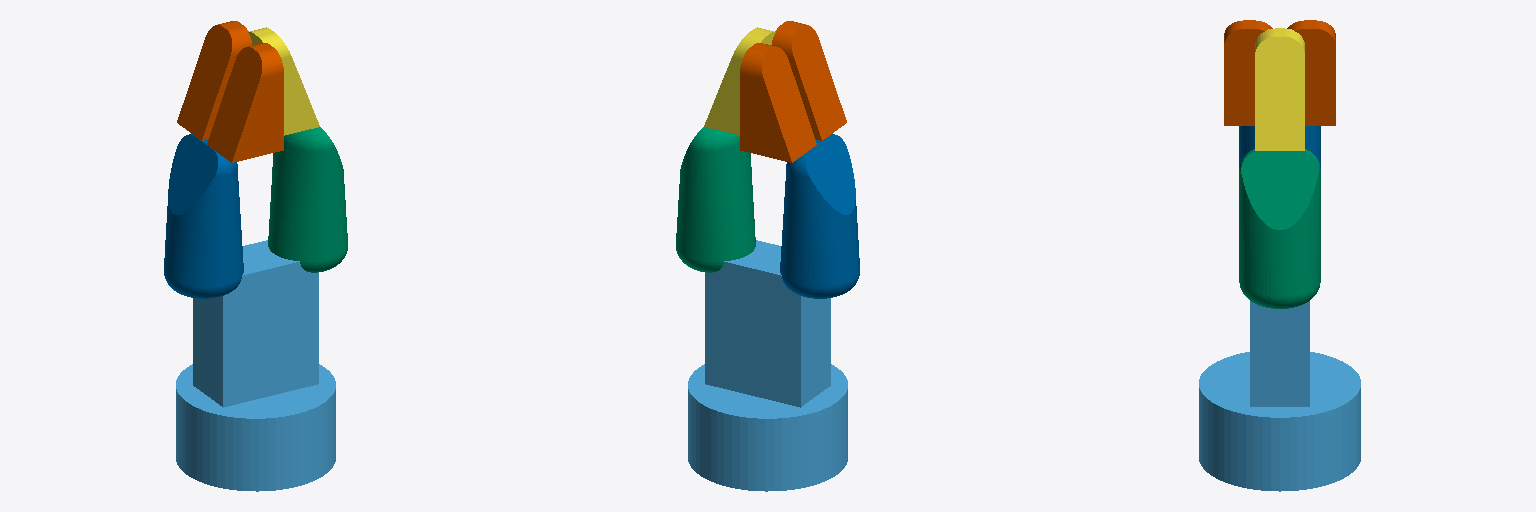
URDF robot description (sr_gripper_custom):
<?xml version="1.0"?>
<robot name="sr_gripper_custom">
  <link name="world"/>

  <joint name="base_joint" type="floating">
    <parent link="world"/>
    <child link="base_link"/>
    <origin xyz="0 0 0" rpy="0 0 0"/>
  </joint>

  <link name="base_link">
    <visual>
      <geometry>
        <mesh filename="meshes/visual/link0.obj"/>
      </geometry>
    </visual>
    <collision name="base_mount">
      <geometry>
        <dsf_vert filename="assets/sr_gripper/meshes/collision/link0_dsf1.obj"
                  contact="false"/>
      </geometry>
    </collision>
    <collision name="base_body">
      <geometry>
        <dsf_vert filename="assets/sr_gripper/meshes/collision/link0_dsf2.obj"
                  contact="false"/>
      </geometry>
    </collision>
  </link>

  <link name="left_finger_link_1">
    <visual>
      <geometry>
        <mesh filename="meshes/visual/link1.obj"/>
      </geometry>
    </visual>
    <collision>
      <geometry>
        <dsf_vert filename="assets/sr_gripper/meshes/collision/link1_dsf1.obj"
                  contact="false"/>
      </geometry>
    </collision>
  </link>

  <link name="left_finger_link_2">
    <visual>
      <geometry>
        <mesh filename="meshes/visual/link2.obj"/>
      </geometry>
    </visual>
    <collision>
      <geometry>
        <dsf_vert filename="assets/sr_gripper/meshes/collision/link2_dsf1.obj"
                  contact="true"/>
      </geometry>
    </collision>
  </link>

  <link name="right_finger_link_1">
    <visual>
      <geometry>
        <mesh filename="meshes/visual/link1.obj"/>
      </geometry>
    </visual>
    <collision>
      <geometry>
        <dsf_vert filename="assets/sr_gripper/meshes/collision/link1_dsf1.obj"
                  contact="false"/>
      </geometry>
    </collision>
  </link>

  <link name="right_finger_link_2">
    <visual>
      <origin xyz="0 0.015 0" rpy="0 0 0"/>
      <geometry>
        <mesh filename="meshes/visual/link2.obj"/>
      </geometry>
    </visual>
    <visual>
      <origin xyz="0 -0.015 0" rpy="0 0 0"/>
      <geometry>
        <mesh filename="meshes/visual/link2.obj"/>
      </geometry>
    </visual>
    <collision>
      <origin xyz="0 0.015 0" rpy="0 0 0"/>
      <geometry>
        <dsf_vert filename="assets/sr_gripper/meshes/collision/link2_dsf1.obj"
                  contact="true"/>
      </geometry>
    </collision>
    <collision>
      <origin xyz="0 -0.015 0" rpy="0 0 0"/>
      <geometry>
        <dsf_vert filename="assets/sr_gripper/meshes/collision/link2_dsf1.obj"
                  contact="true"/>
      </geometry>
    </collision>
  </link>

  <joint name="left_finger_joint_1" type="revolute">
    <parent link="base_link"/>
    <child link="left_finger_link_1"/>
    <origin xyz="0.03 0 0.11" rpy="0 0 3.141592653589793"/>
    <axis xyz="0 -1 0"/>
    <limit lower="0.0" upper="0.9"/>
  </joint>

  <joint name="left_finger_joint_2" type="revolute">
    <parent link="left_finger_link_1"/>
    <child link="left_finger_link_2"/>
    <origin xyz="0 0 0.07" rpy="0 0 0"/>
    <axis xyz="0 -1 0"/>
    <limit lower="-0.9" upper="0.0"/>
    <mimic joint="left_finger_joint_1" multiplier="-1" offset="0"/>
  </joint>

  <joint name="right_finger_joint_1" type="revolute">
    <parent link="base_link"/>
    <child link="right_finger_link_1"/>
    <origin xyz="-0.03 0 0.11" rpy="0 0 0"/>
    <axis xyz="0 -1 0"/>
    <limit lower="0.0" upper="0.9"/>
    <mimic joint="left_finger_joint_1" multiplier="1" offset="0"/>
  </joint>

  <joint name="right_finger_joint_2" type="revolute">
    <parent link="right_finger_link_1"/>
    <child link="right_finger_link_2"/>
    <origin xyz="0 0 0.07" rpy="0 0 0"/>
    <axis xyz="0 -1 0"/>
    <limit lower="-0.9" upper="0.0"/>
    <mimic joint="left_finger_joint_1" multiplier="-1" offset="0"/>
  </joint>
</robot>

--- Render facts (derived) ---
The picture shows the robot from 3 angles, left to right: view 1: azimuth 30°, elevation 25°; view 2: azimuth 150°, elevation 25°; view 3: azimuth 270°, elevation 25°; orthographic projection.
Robot: sr_gripper_custom — 6 links, 5 joints (4 revolute, 1 floating); root link world; default pose: all joints at 0.
Visible links, largest first — view 1: base_link, right_finger_link_2, right_finger_link_1, left_finger_link_1, left_finger_link_2; view 2: base_link, right_finger_link_2, right_finger_link_1, left_finger_link_1, left_finger_link_2; view 3: base_link, left_finger_link_1, right_finger_link_2, left_finger_link_2, right_finger_link_1.
Link boxes in pixels (x1,y1,x2,y2): base_link: (176,240,335,491); right_finger_link_2: (177,21,283,162); right_finger_link_1: (164,134,243,298); left_finger_link_1: (268,127,347,272); left_finger_link_2: (248,27,319,135); base_link: (688,240,847,491); right_finger_link_2: (740,21,846,162); right_finger_link_1: (780,134,859,298); left_finger_link_1: (676,127,755,272); left_finger_link_2: (704,27,775,135); base_link: (1199,301,1360,491); left_finger_link_1: (1239,149,1320,308); right_finger_link_2: (1224,20,1335,125); left_finger_link_2: (1255,28,1304,150); right_finger_link_1: (1239,126,1320,167).
Bounding box of the posed robot: 0.0999 × 0.0799 × 0.2325 m (x, y, z).
Meshes: 3 distinct files referenced, 6 mesh visuals loaded (3 OBJ).
